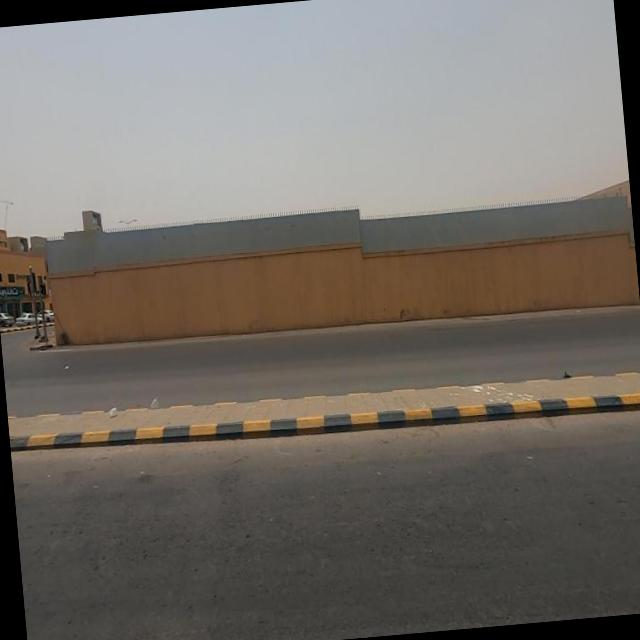debris: (88, 372, 142, 441), (136, 367, 180, 437)
